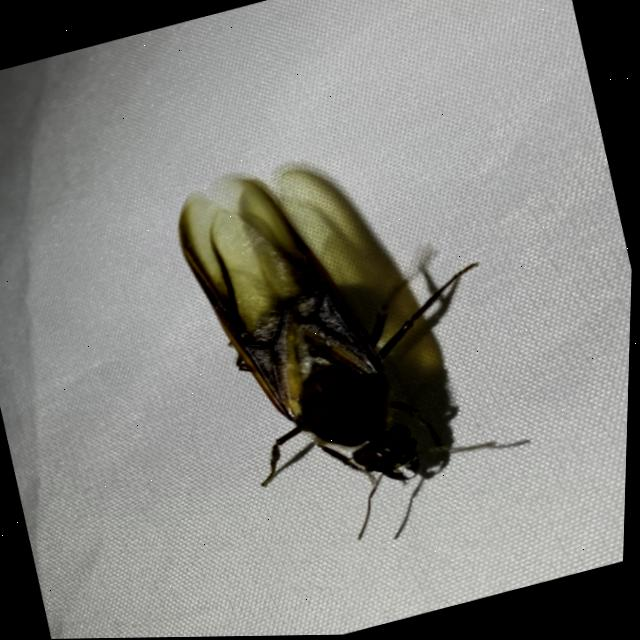Alive-Female-Alate: (159, 117, 542, 571)
